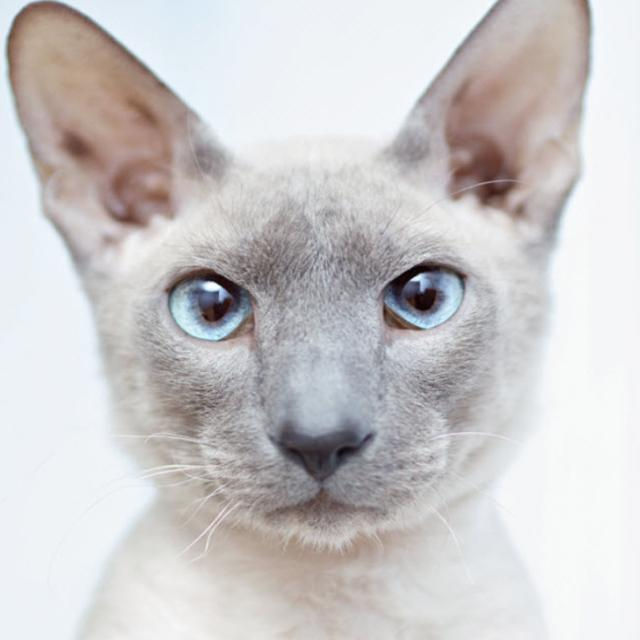Oriental: (0, 0, 599, 640)
